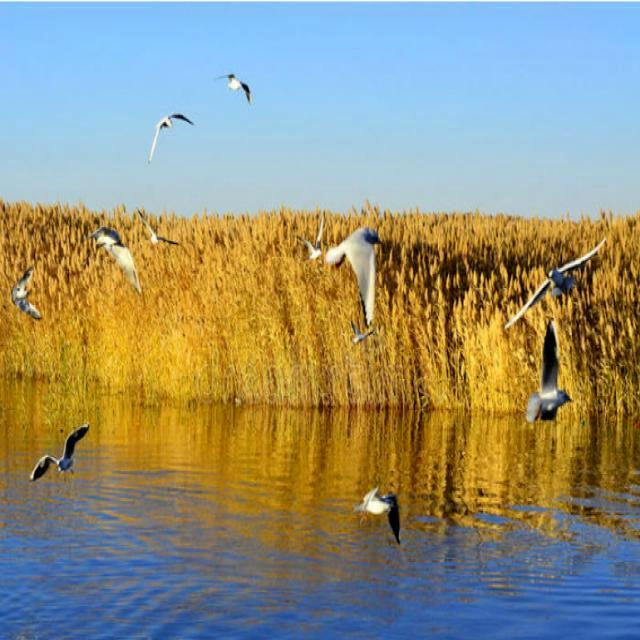bird: (500, 233, 610, 322), (517, 319, 580, 427), (326, 211, 391, 311), (84, 223, 142, 296), (352, 477, 408, 550), (28, 423, 90, 485), (147, 104, 198, 163), (9, 266, 50, 328), (137, 203, 187, 250), (293, 210, 326, 266), (221, 68, 254, 105), (345, 321, 380, 348)
